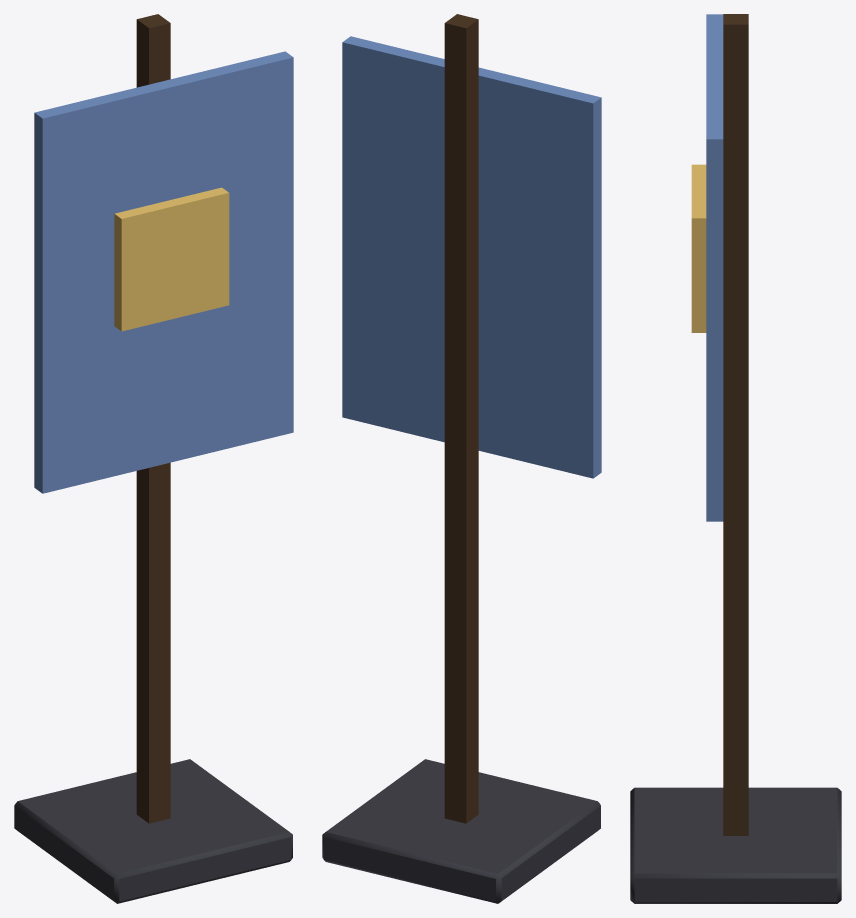
File: standard.glb
The picture shows the model from 3 angles, left to right: view 1: azimuth 30°, elevation 25°; view 2: azimuth 150°, elevation 25°; view 3: azimuth 270°, elevation 25°; orthographic projection.
Visible parts, largest first — view 1: building; view 2: building; view 3: building.
Boxes of the visible parts, x1,y1,x2,y2 form: building: [14, 14, 293, 903]; building: [322, 14, 601, 903]; building: [630, 14, 841, 903].
Size of the model in its own units: 0.7 by 2.2 by 0.5.
